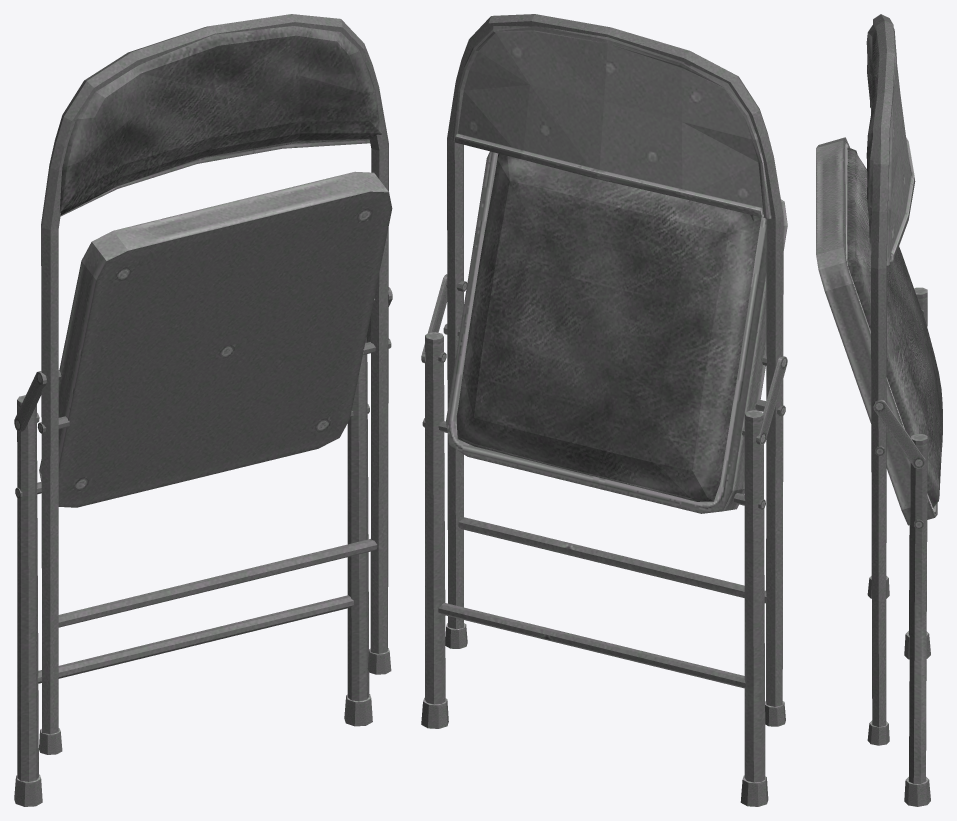
The model's file is foldingChair.dae.
3 views of the same model, side by side, from view 1: azimuth 30°, elevation 25°; view 2: azimuth 150°, elevation 25°; view 3: azimuth 270°, elevation 25° (orthographic). The views are drawn at different scales.
Parts seen in each view (by area): view 1: B_ChairOfcB_0_001; view 2: B_ChairOfcB_0_001; view 3: B_ChairOfcB_0_001.
Part boxes in pixels (left/top/right/bottom): B_ChairOfcB_0_001: left=14, top=14, right=392, bottom=806; B_ChairOfcB_0_001: left=421, top=14, right=787, bottom=806; B_ChairOfcB_0_001: left=816, top=14, right=942, bottom=806.
Bounding box in the file's own units: 0.1652 × 0.3315 × 0.0562.
1 material, 1 textured.
